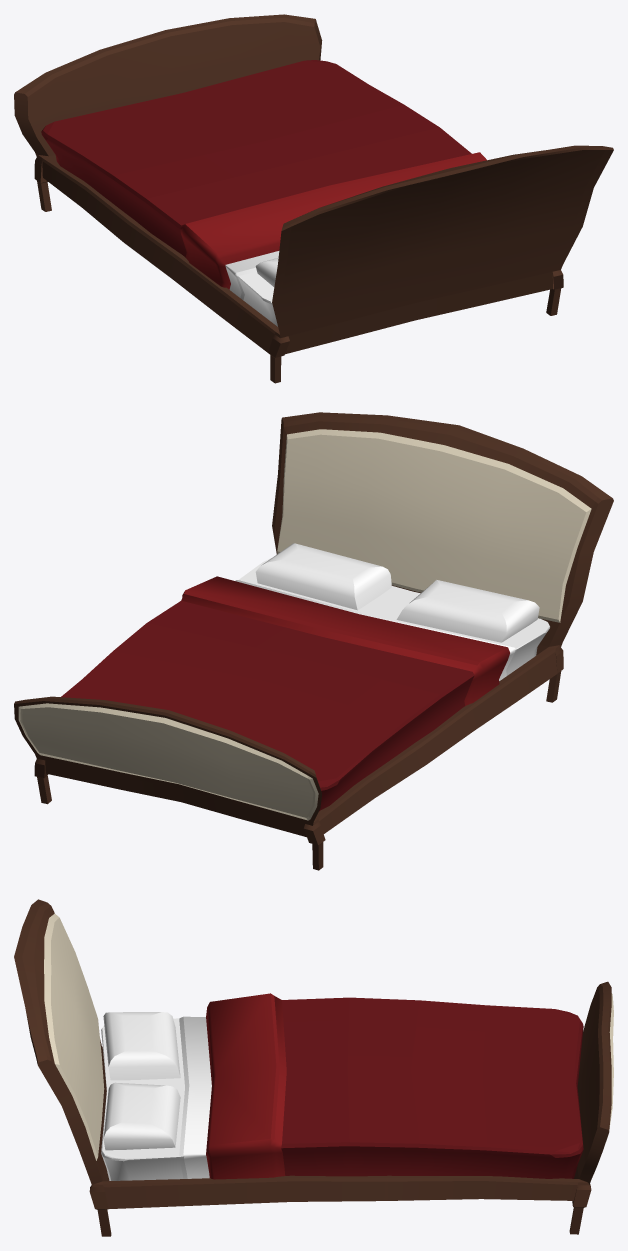
File: BedroomBed.fbx
3 views of the same model, one above another, from view 1: azimuth 30°, elevation 25°; view 2: azimuth 150°, elevation 25°; view 3: azimuth 270°, elevation 25° (orthographic).
Visible parts, largest first — view 1: polySurface11; view 2: polySurface11; view 3: polySurface11.
Boxes of the visible parts, x1,y1,x2,y2 form: polySurface11: (14, 14, 613, 383); polySurface11: (14, 412, 613, 870); polySurface11: (14, 899, 613, 1236).
Size of the model in its own units: 163 by 97.61 by 252.
